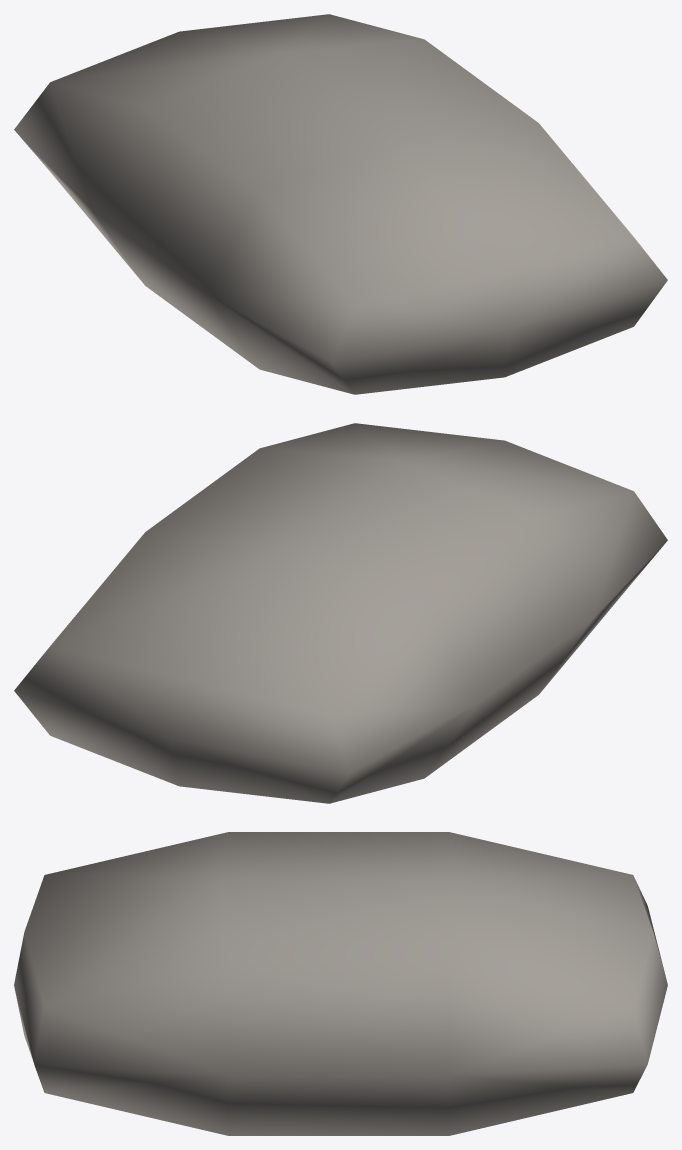
Rendered from bathroom_soap_lod0.glb.
The picture shows the model from 3 angles, top to bottom: view 1: azimuth 30°, elevation 25°; view 2: azimuth 150°, elevation 25°; view 3: azimuth 270°, elevation 25°; orthographic projection. The views are drawn at different scales.
Parts seen in each view (by area): view 1: surf0; view 2: surf0; view 3: surf0.
Boxes of the visible parts, x1,y1,x2,y2 form: surf0: [14, 14, 667, 394]; surf0: [14, 423, 667, 803]; surf0: [14, 832, 667, 1135].
Size of the model in its own units: 3.39 by 1.8 by 5.15.
